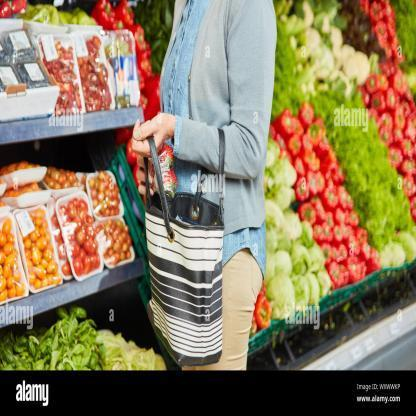Shoplifting: (92, 99, 262, 367), (144, 393, 145, 395)
